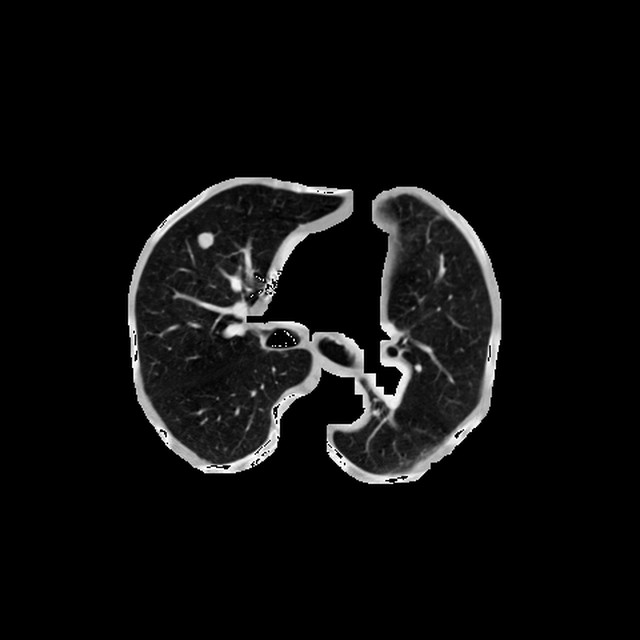PN: (196, 232, 212, 248)
